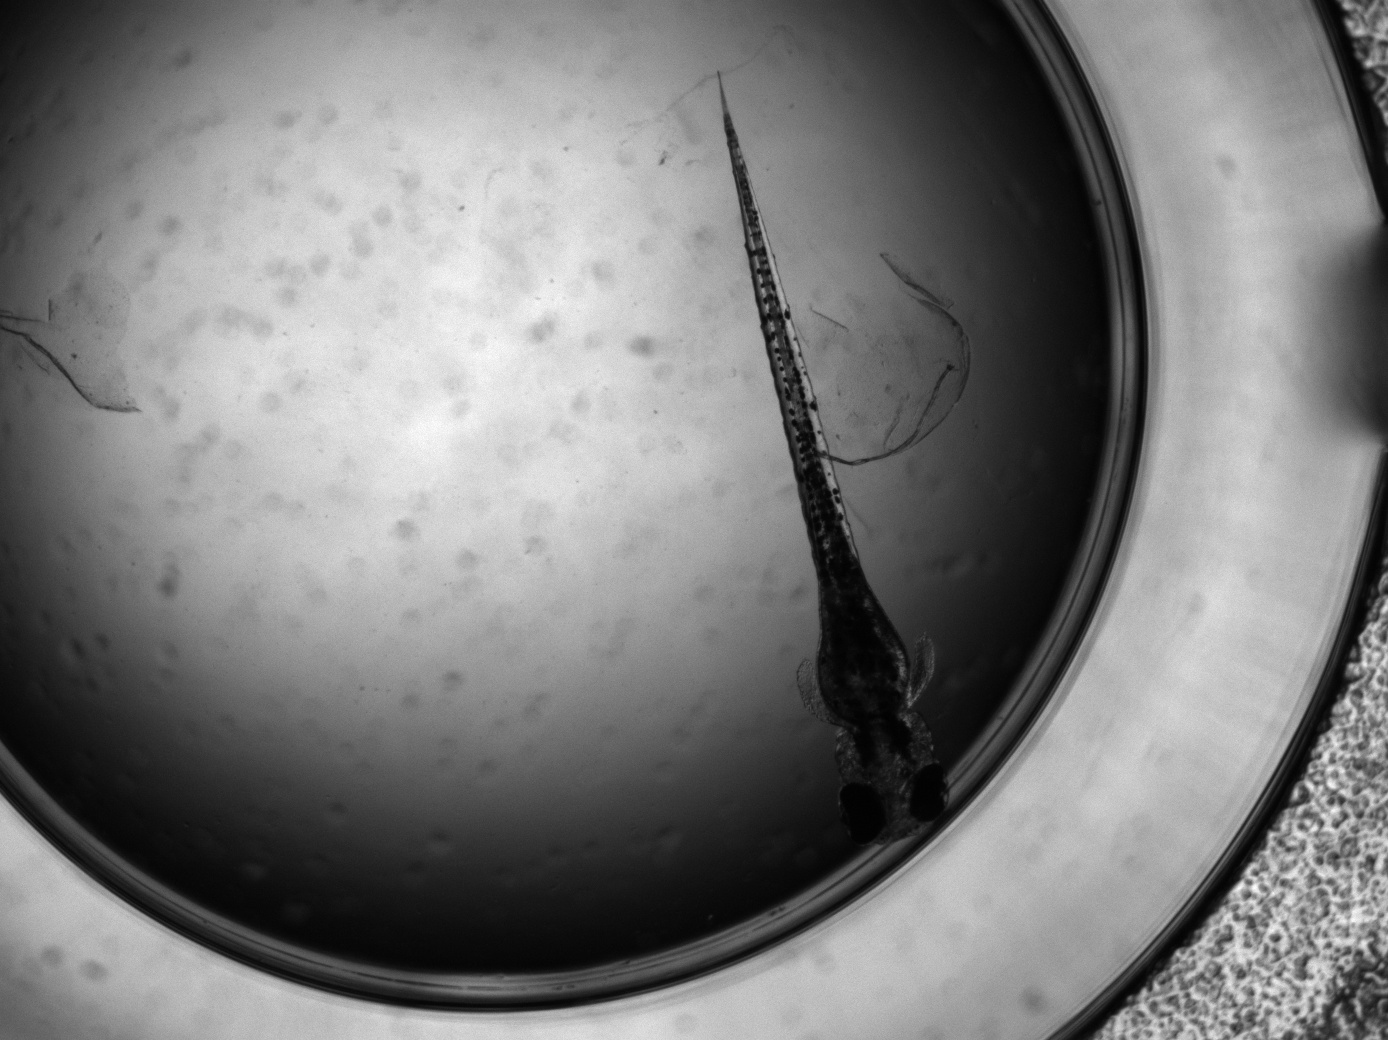debris: (815, 250, 972, 468), (1, 259, 142, 415)
embryo: (713, 69, 952, 846)
eye: (838, 783, 883, 846), (907, 763, 949, 822)
yolksac: (815, 626, 910, 721)
